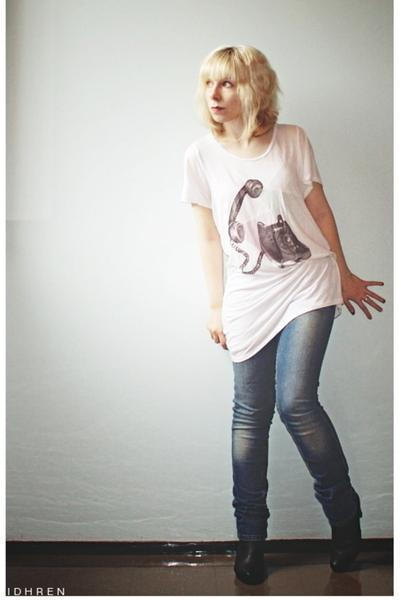pants: (232, 305, 361, 536)
shirt: (186, 117, 342, 361)
shoe: (228, 524, 366, 584)
